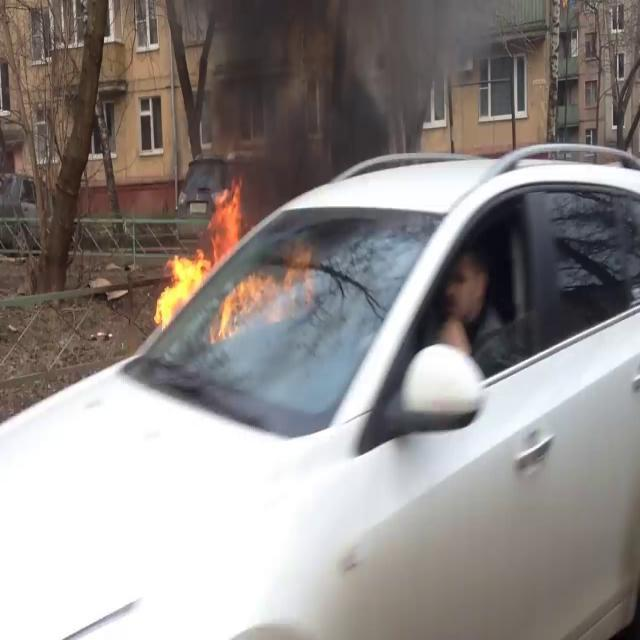Fire: (153, 175, 293, 341)
Smoke: (202, 0, 478, 198)
